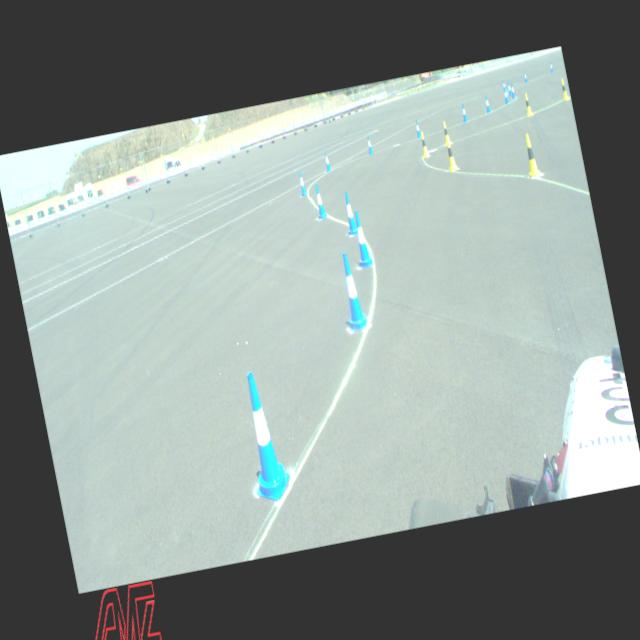blue_cone: (234, 368, 294, 504), (336, 251, 368, 331), (350, 210, 373, 268), (341, 190, 359, 234), (312, 183, 328, 219), (296, 170, 308, 197), (324, 152, 332, 172), (414, 119, 422, 139), (366, 136, 374, 154), (461, 103, 468, 122), (502, 86, 509, 104), (484, 94, 491, 112), (510, 82, 516, 98), (508, 81, 512, 96), (502, 79, 506, 92), (524, 71, 528, 83), (550, 62, 554, 72)
yellow_cone: (522, 132, 541, 178), (443, 136, 458, 170), (419, 132, 430, 158), (523, 92, 533, 116), (442, 120, 452, 144), (559, 78, 569, 100)
